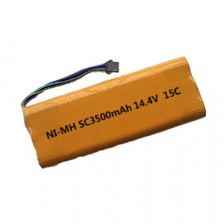battery: (19, 53, 209, 171)
